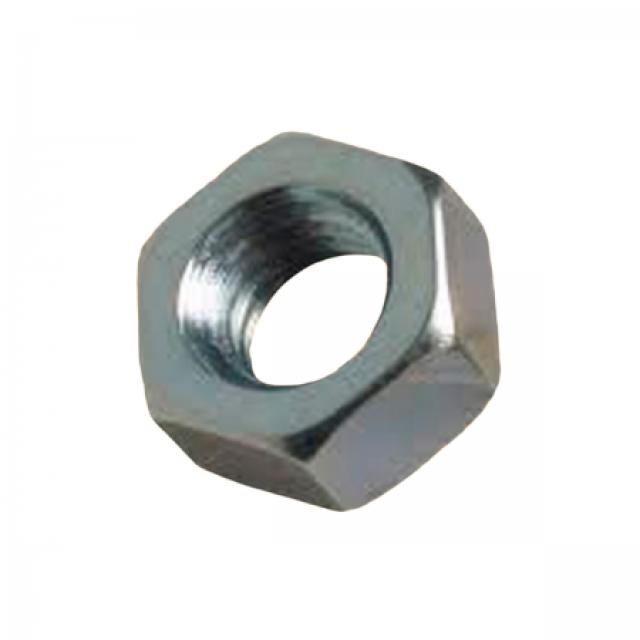Dry Waste: (115, 100, 517, 542)
